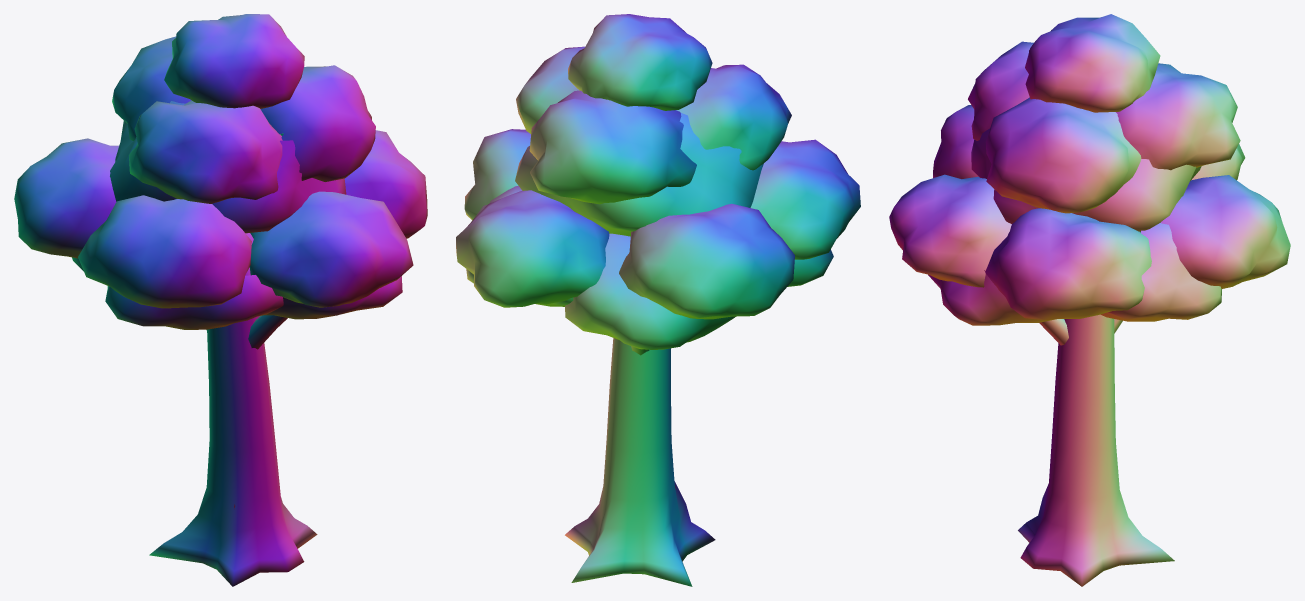
File: SM_Foliage_Plains_Oak_B.fbx
3 renders of one model, left to right at view 1: azimuth 30°, elevation 25°; view 2: azimuth 150°, elevation 25°; view 3: azimuth 270°, elevation 25°, orthographic. The views are drawn at different scales.
Parts seen in each view (by area): view 1: SM_Foliage_Plains_Oak_B; view 2: SM_Foliage_Plains_Oak_B; view 3: SM_Foliage_Plains_Oak_B.
Boxes of the visible parts, <box> form: SM_Foliage_Plains_Oak_B: <box>14,14,427,586</box>; SM_Foliage_Plains_Oak_B: <box>456,14,860,586</box>; SM_Foliage_Plains_Oak_B: <box>889,14,1290,586</box>.
Size of the model in its own units: 2.7 by 3.91 by 2.71.
